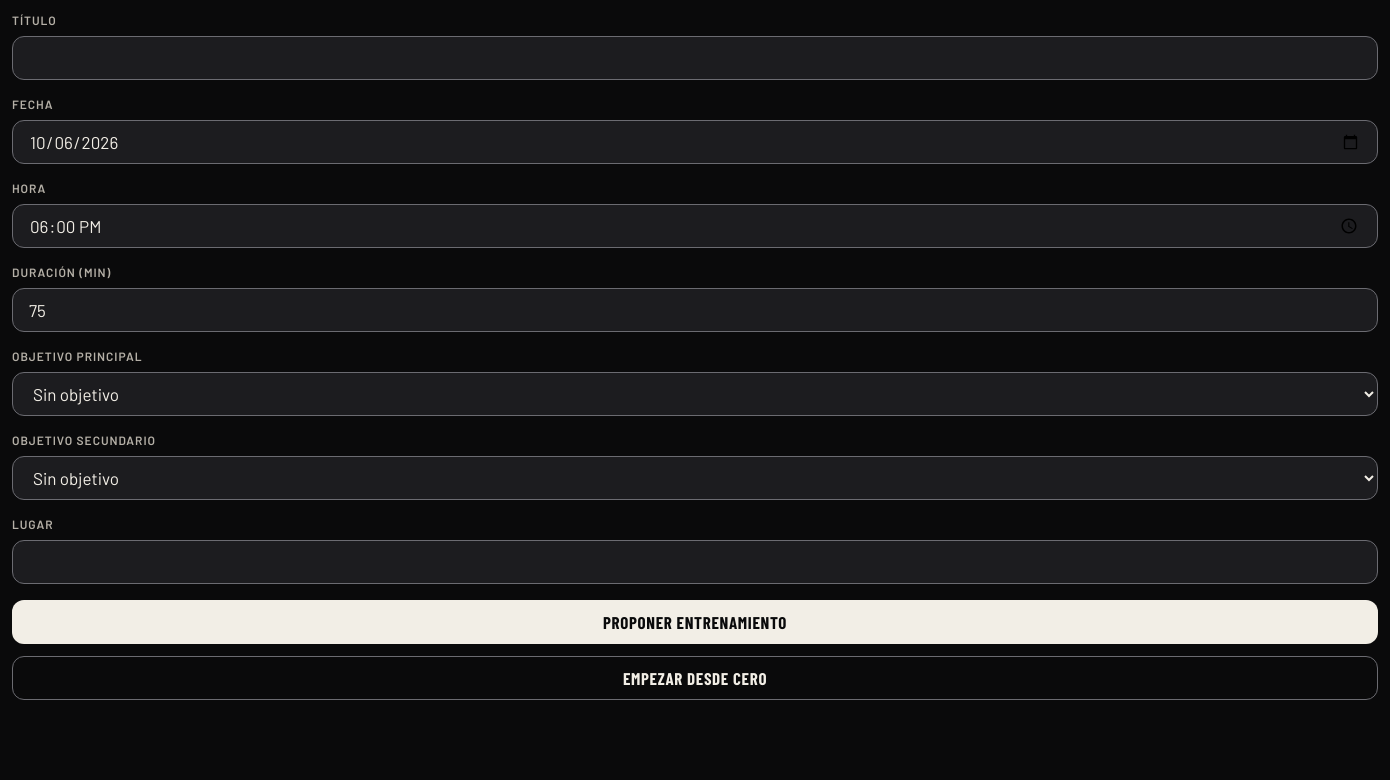
PracticeForm · nueva sesión › mientras crea, los dos botones esperan
Step 1. Type "Una sesión" into the field labelled "Título" → x=695, y=58, box [12, 36, 1378, 80]
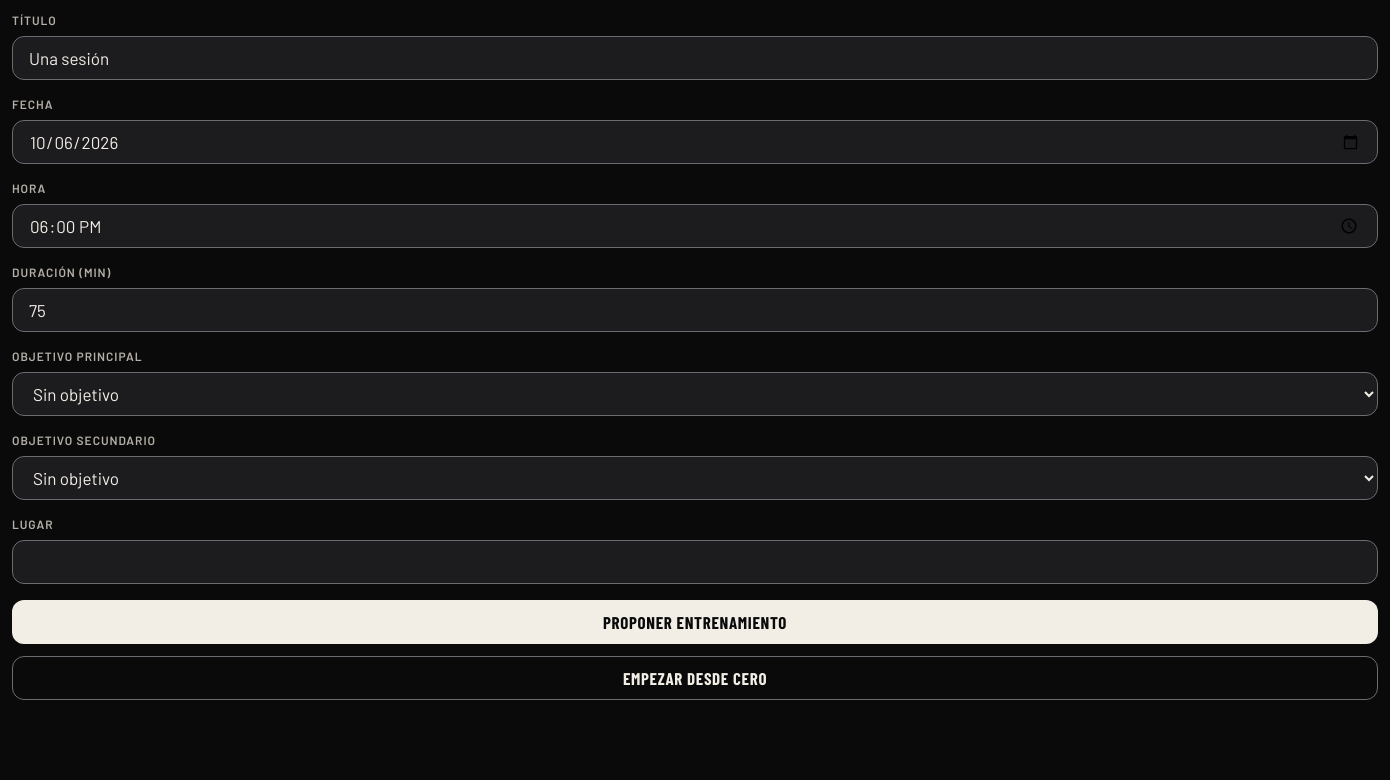
Step 2. Click the button "Proponer entrenamiento" → x=695, y=622, box [12, 600, 1378, 644]
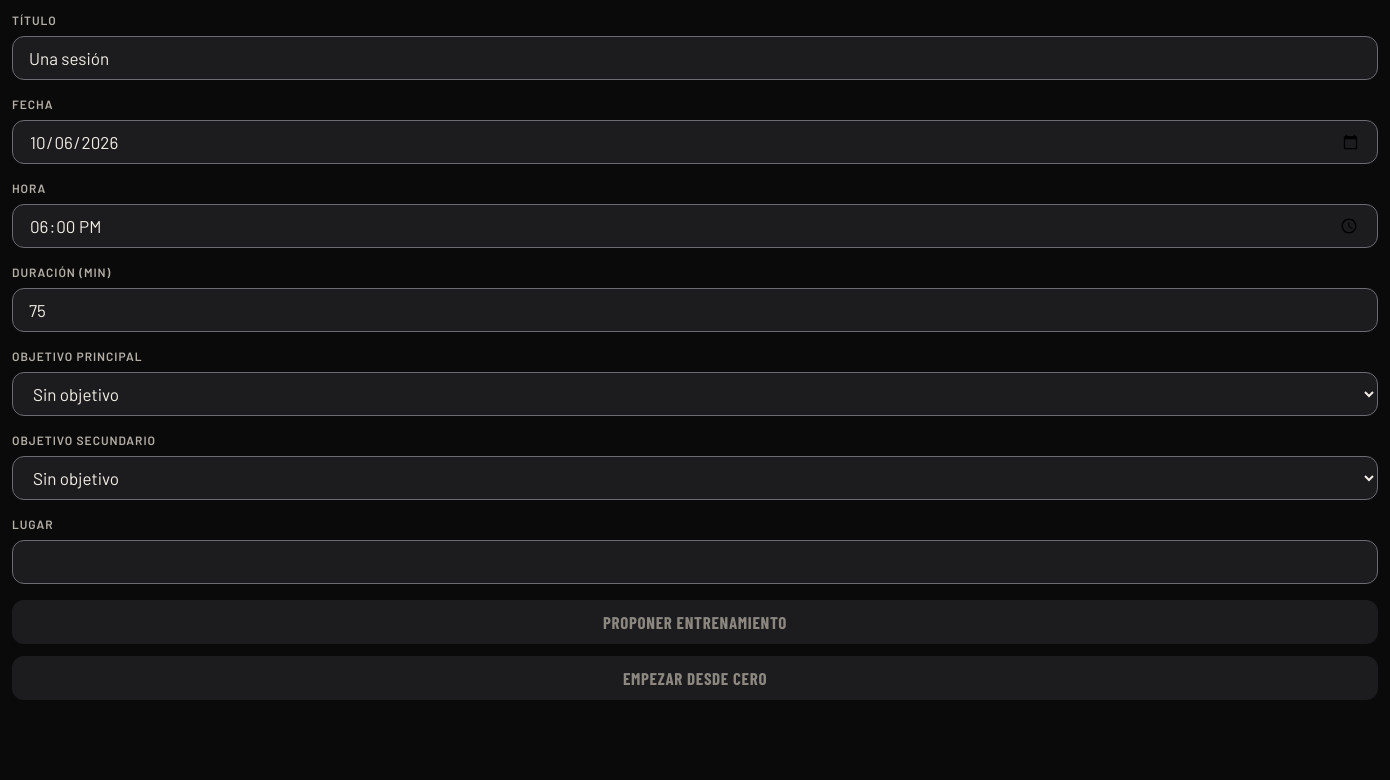
Now the button "Proponer entrenamiento" is disabled, box [12, 600, 1378, 644]
Now the button "Empezar desde cero" is disabled, box [12, 656, 1378, 700]
